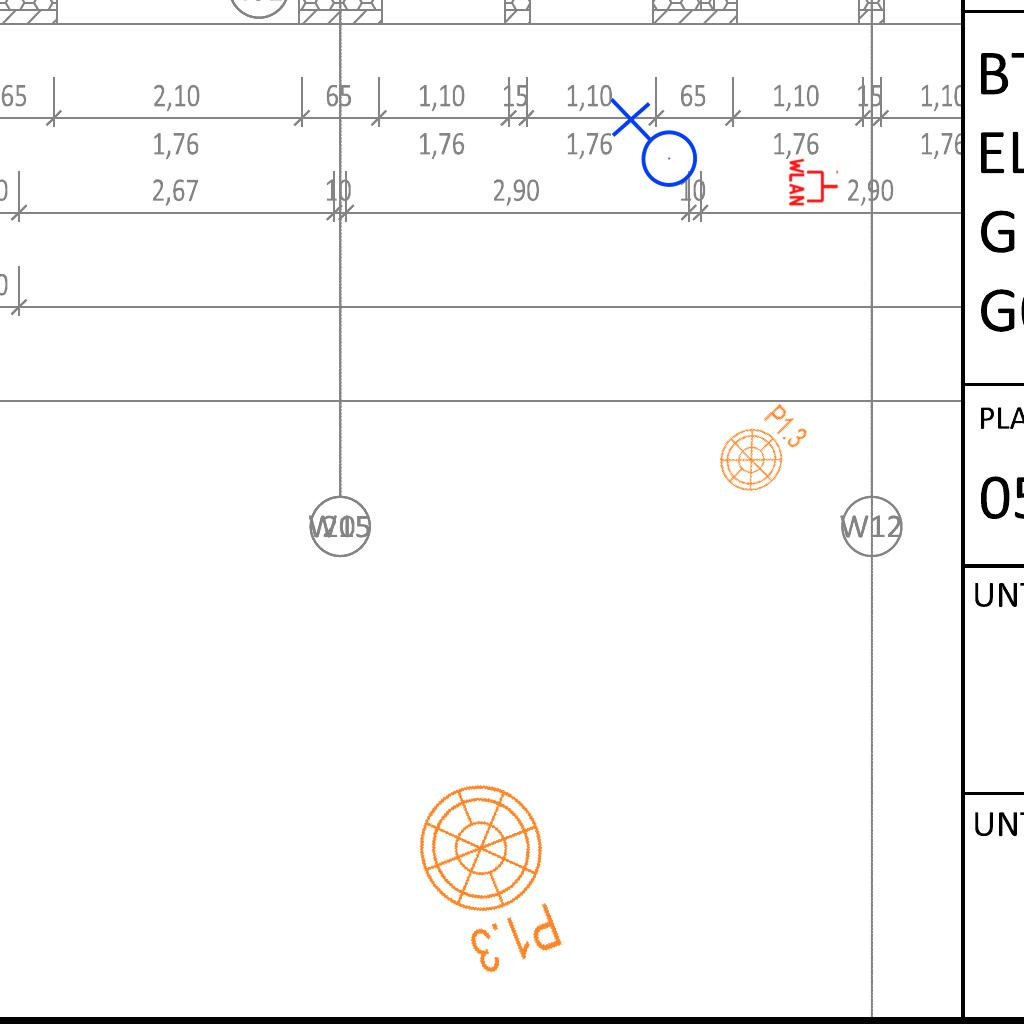Aufbaurundleuchte_LED_Treppenhaus: (386, 762, 591, 1005), (705, 389, 827, 510)
Elektroanschluss_allgemein_230V_Geraeteanschlussdose_230V: (605, 97, 699, 196)
WLAN: (788, 156, 840, 208)
